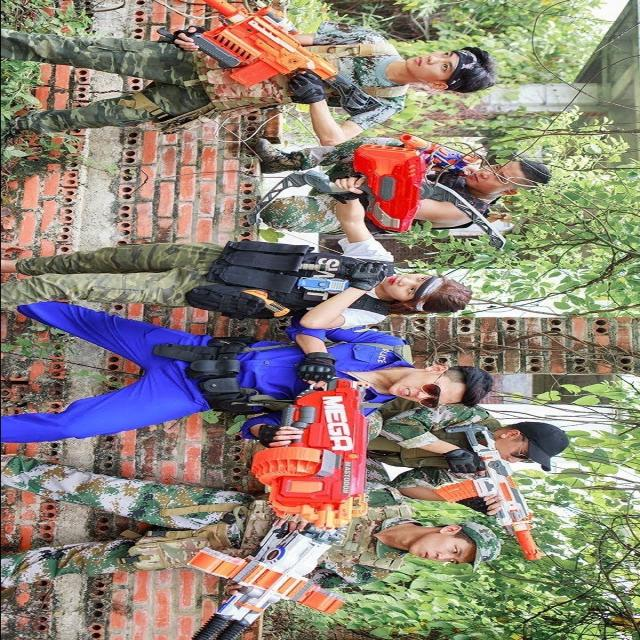Nerf gun: (170, 3, 386, 117), (240, 362, 379, 526), (178, 521, 354, 640), (430, 423, 551, 559), (339, 143, 431, 237), (394, 135, 488, 171)
